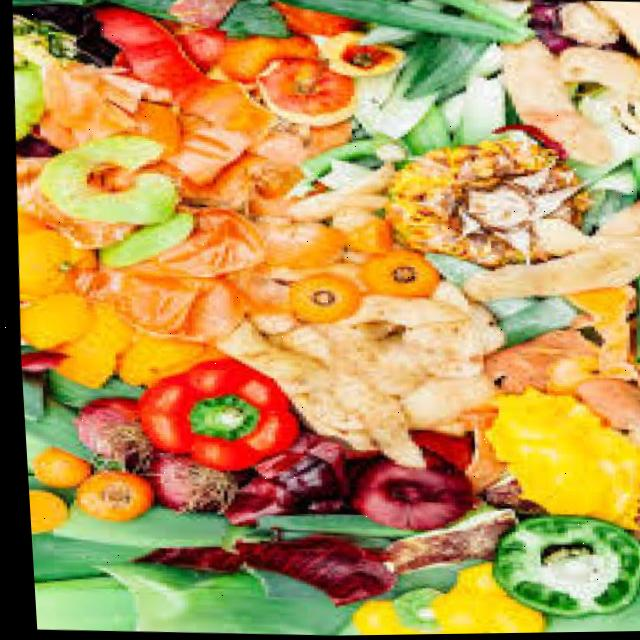Wet: (0, 0, 640, 640), (245, 0, 640, 341), (16, 346, 306, 633), (9, 103, 225, 291), (441, 492, 640, 635), (304, 426, 478, 561)
